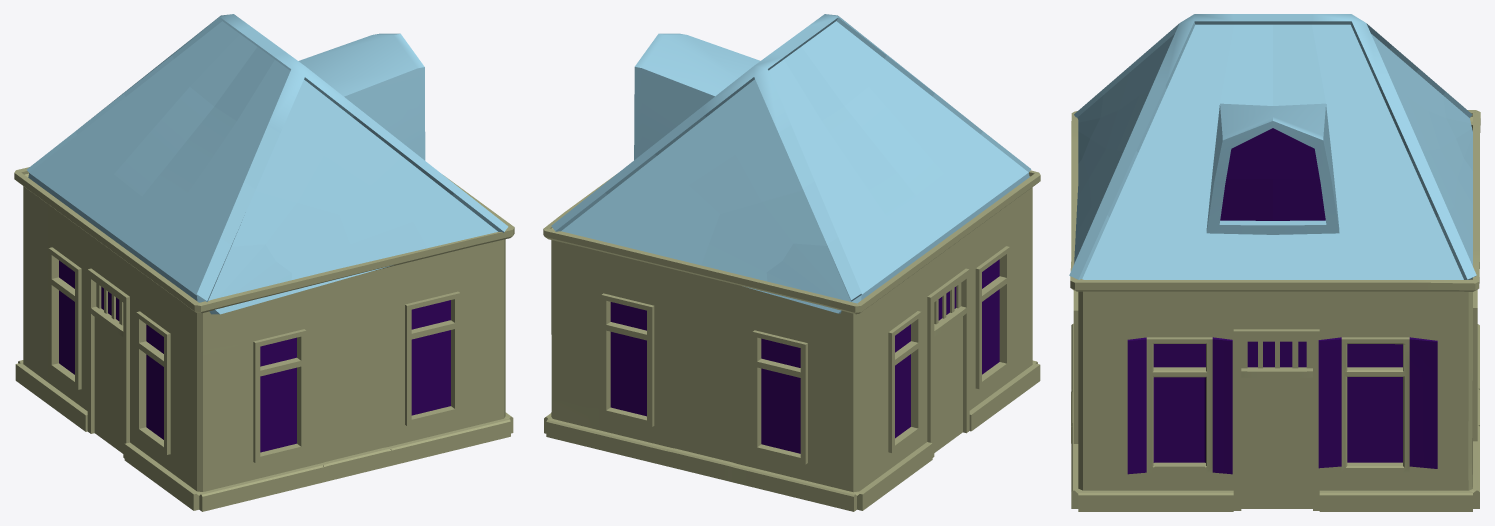
Rendered from House_ArtTest_1.fbx.
3 views of the same model, side by side, from view 1: azimuth 30°, elevation 25°; view 2: azimuth 150°, elevation 25°; view 3: azimuth 270°, elevation 25° (orthographic). The views are drawn at different scales.
Visible parts, largest first — view 1: pPlane11, pPlane23; view 2: pPlane11, pPlane23; view 3: pPlane11, pPlane23.
Boxes of the visible parts, <box> form: pPlane11: <box>14,167,514,511</box>; pPlane23: <box>26,14,508,314</box>; pPlane11: <box>543,170,1040,511</box>; pPlane23: <box>551,14,1031,313</box>; pPlane11: <box>1070,110,1480,511</box>; pPlane23: <box>1069,14,1476,279</box>.
Bounding box in the file's own units: 6.64 × 7.22 × 6.62.
